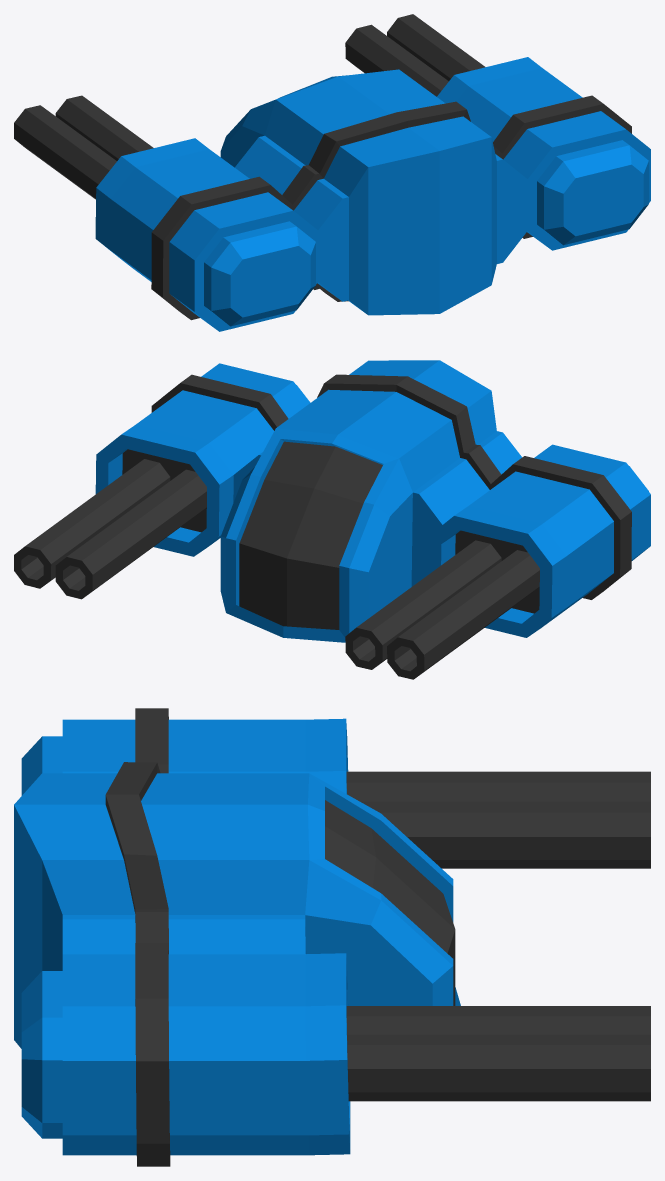
File: turret1head.fbx
The picture shows the model from 3 angles, top to bottom: view 1: azimuth 30°, elevation 25°; view 2: azimuth 150°, elevation 25°; view 3: azimuth 270°, elevation 25°; orthographic projection. The views are drawn at different scales.
Parts seen in each view (by area): view 1: Cube.002; view 2: Cube.002; view 3: Cube.002.
Part boxes in pixels (x1,y1,x2,y2): Cube.002: (14,14,650,331); Cube.002: (14,360,650,679); Cube.002: (14,708,650,1166).
Bounding box in the file's own units: 190 × 68.62 × 155.
